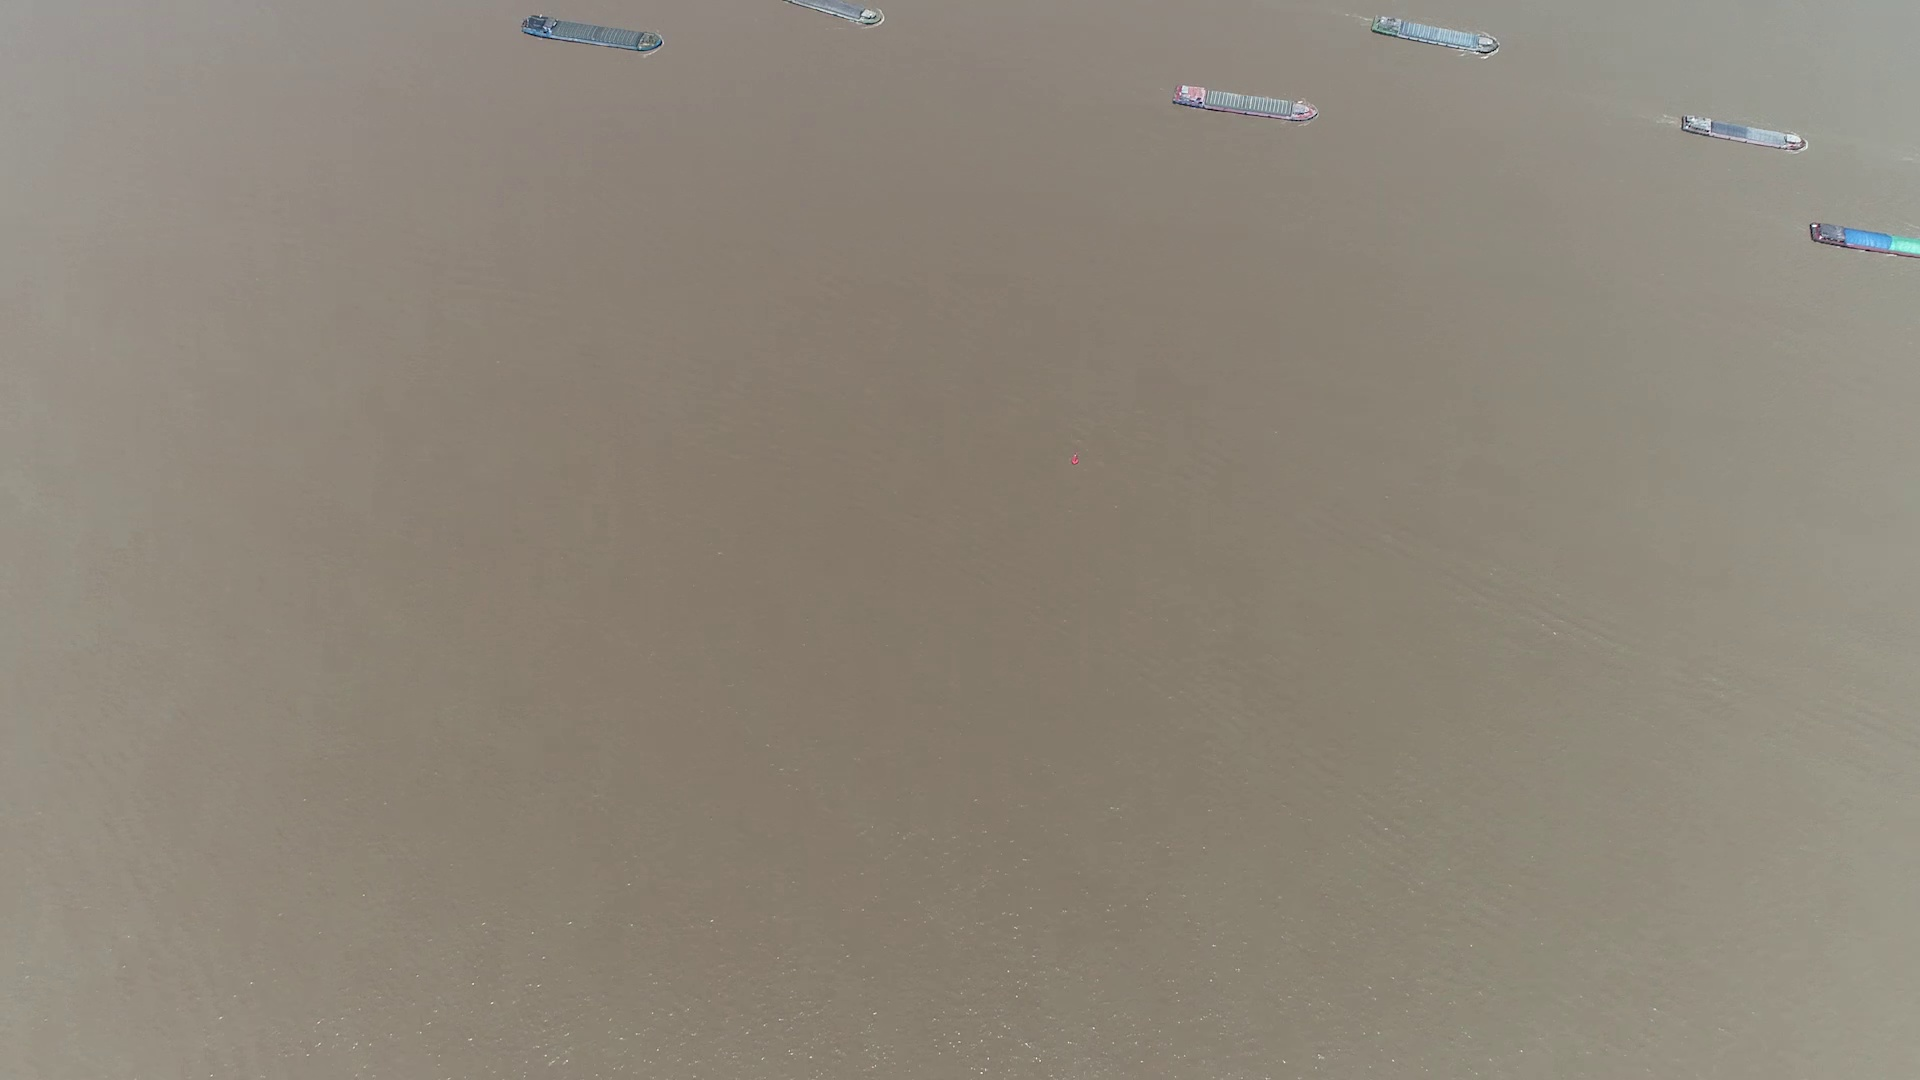ship: (1170, 84, 1320, 123), (522, 16, 665, 55), (1369, 15, 1501, 55), (1677, 113, 1808, 150), (1809, 220, 1919, 258), (786, 0, 884, 26)
